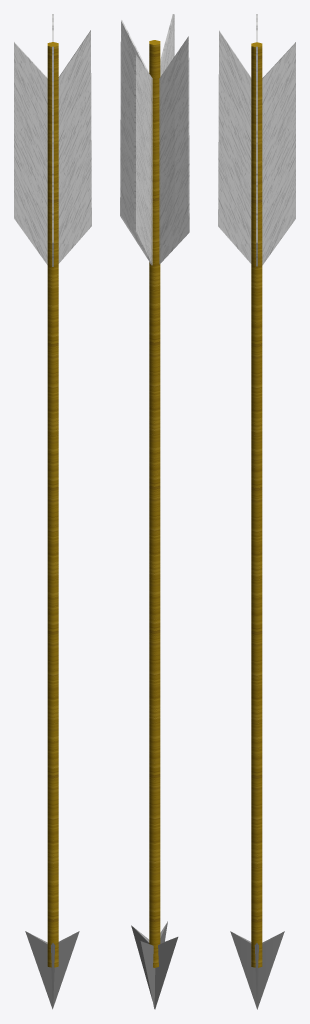
File: arrow3.fbx
3 views of the same model, side by side, from view 1: azimuth 90°, elevation 25°; view 2: azimuth 150°, elevation 25°; view 3: azimuth 270°, elevation 25° (orthographic).
Parts seen in each view (by area): view 1: m_shaft, m_tfeather, m_bfeather, m_vbroadhead, m_lfeather; view 2: m_shaft, m_lfeather, m_bfeather, m_rfeather, m_hbroadhead, m_vbroadhead, m_tfeather; view 3: m_shaft, m_tfeather, m_bfeather, m_vbroadhead, m_rfeather.
Part boxes in pixels (<box>): m_shaft: <box>47,42,58,967</box>; m_tfeather: <box>58,30,91,263</box>; m_bfeather: <box>14,42,47,264</box>; m_vbroadhead: <box>25,931,79,1009</box>; m_lfeather: <box>52,46,53,266</box>; m_shaft: <box>149,40,160,967</box>; m_lfeather: <box>159,36,189,264</box>; m_bfeather: <box>134,54,152,265</box>; m_rfeather: <box>120,20,148,260</box>; m_hbroadhead: <box>131,925,178,1009</box>; m_vbroadhead: <box>140,921,167,1009</box>; m_tfeather: <box>160,14,174,76</box>; m_shaft: <box>251,42,262,967</box>; m_tfeather: <box>218,30,251,263</box>; m_bfeather: <box>262,42,295,265</box>; m_vbroadhead: <box>230,931,284,1009</box>; m_rfeather: <box>256,46,257,266</box>.
Size of the model in its own units: 0.9831 by 13.4 by 0.9652.
